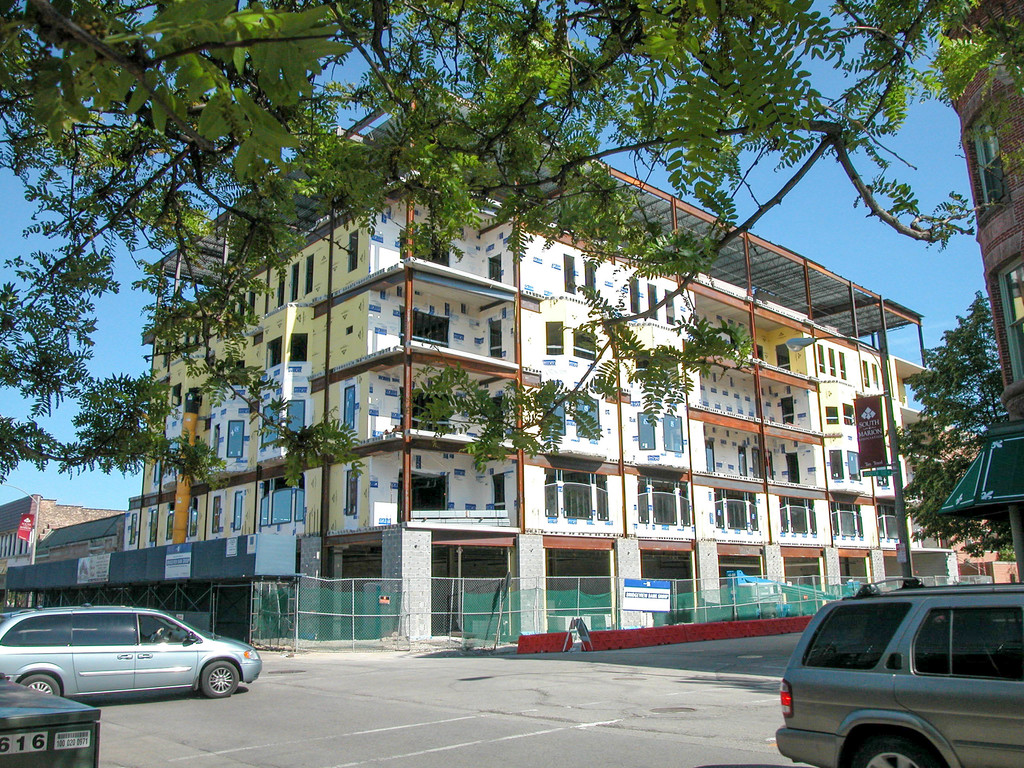Car: (777, 577, 1023, 767), (0, 593, 261, 700)
